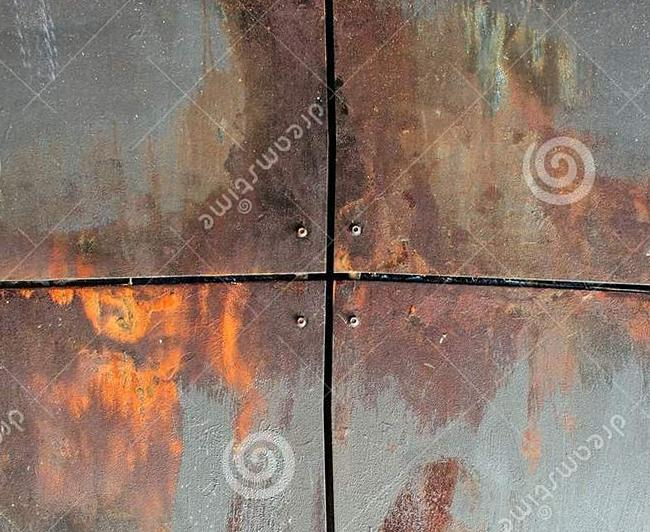rust: (219, 5, 433, 273), (4, 291, 196, 523), (453, 147, 649, 332)
